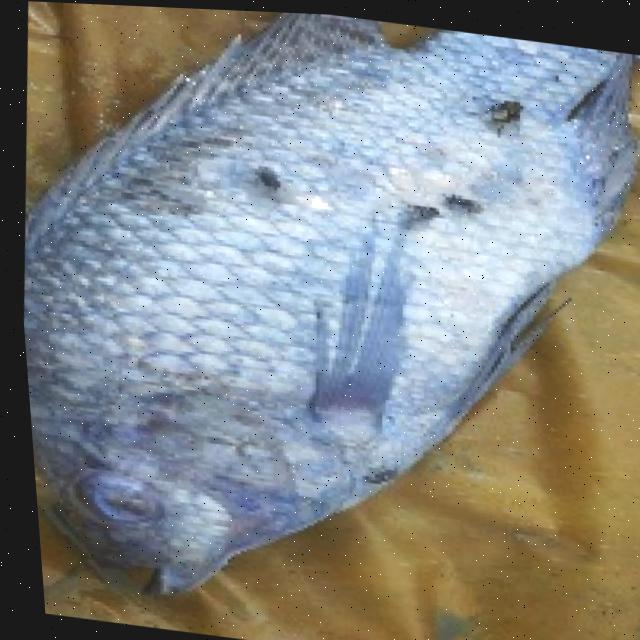Non-Fresh: (219, 35, 437, 455), (44, 401, 180, 569)
